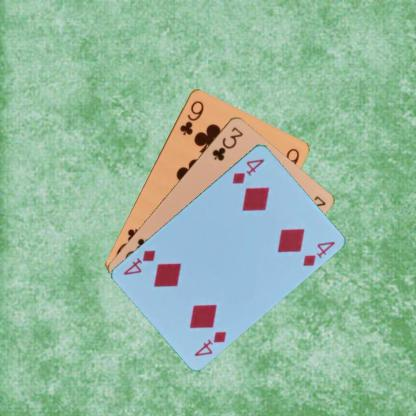3c: (209, 124, 244, 162)
4d: (229, 155, 266, 186), (191, 328, 228, 358)
9c: (177, 98, 205, 136)
